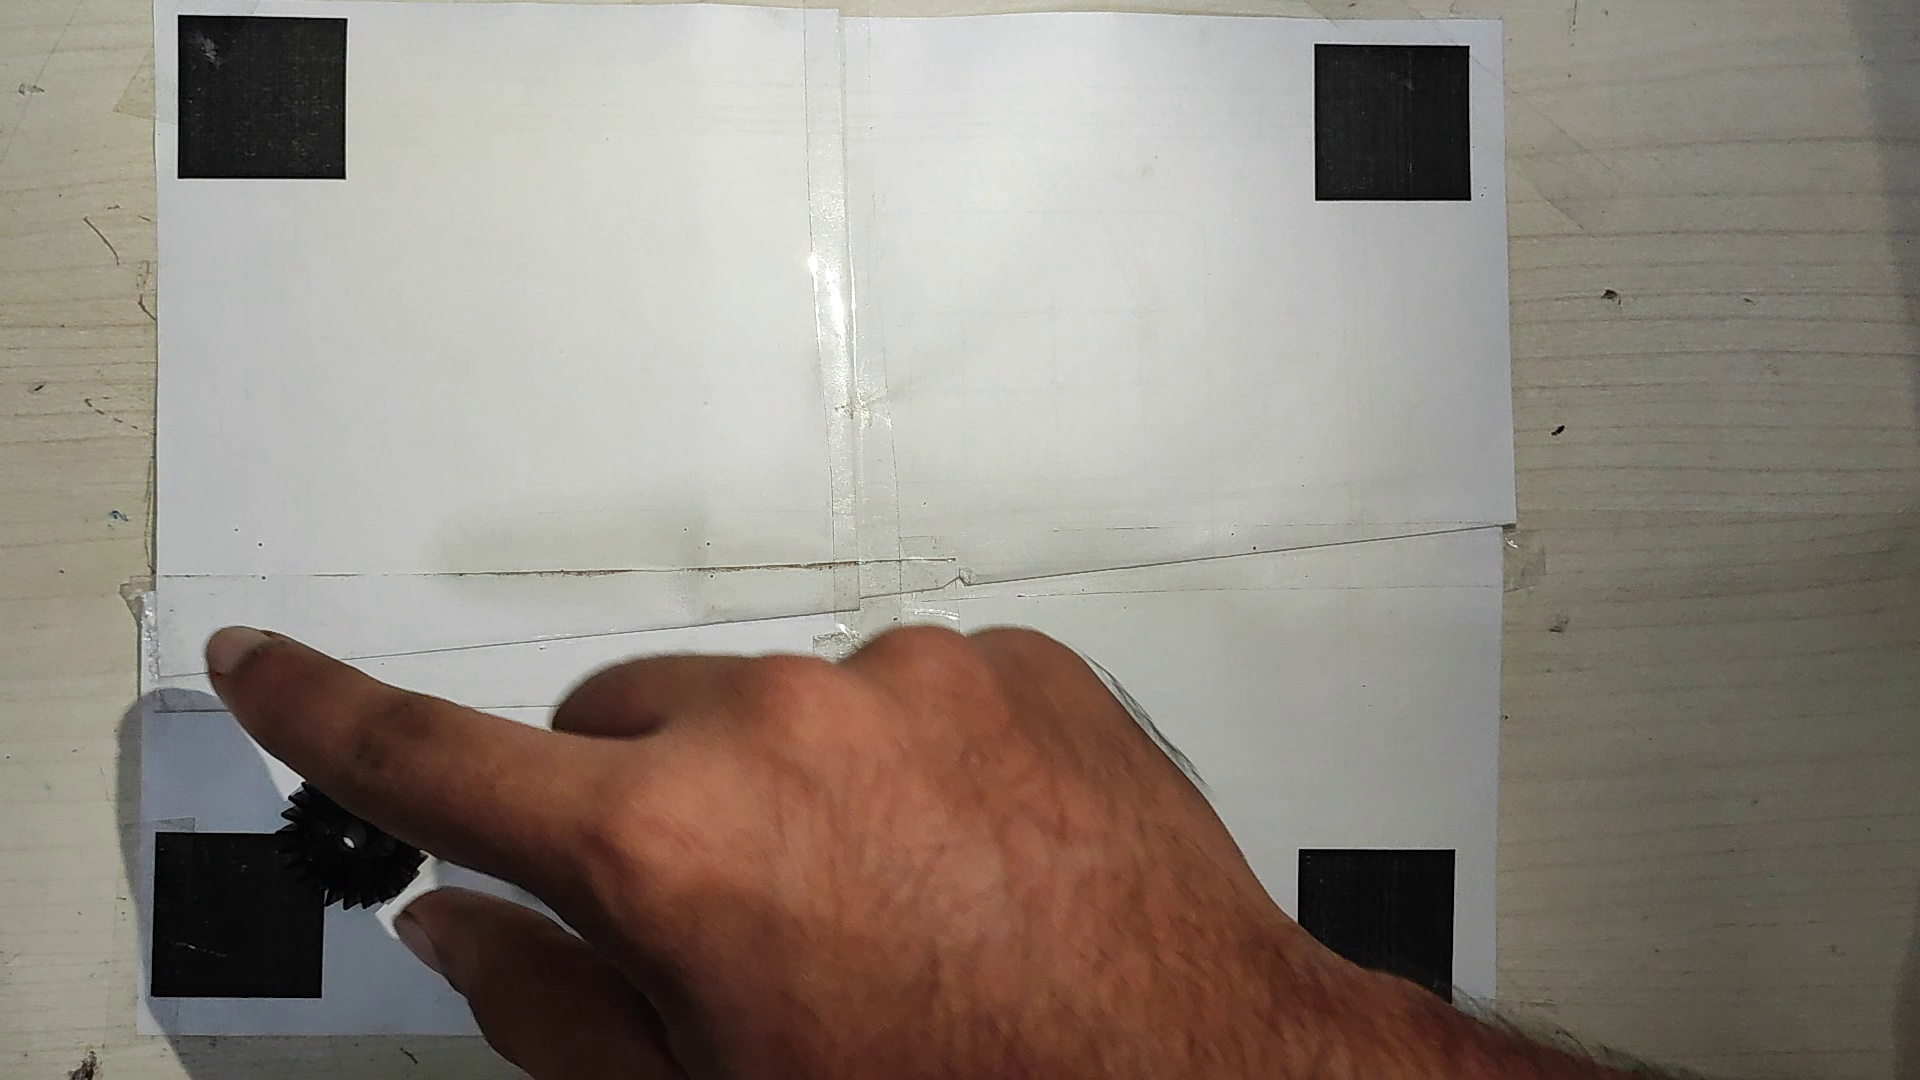Gear: (280, 771, 431, 911)
